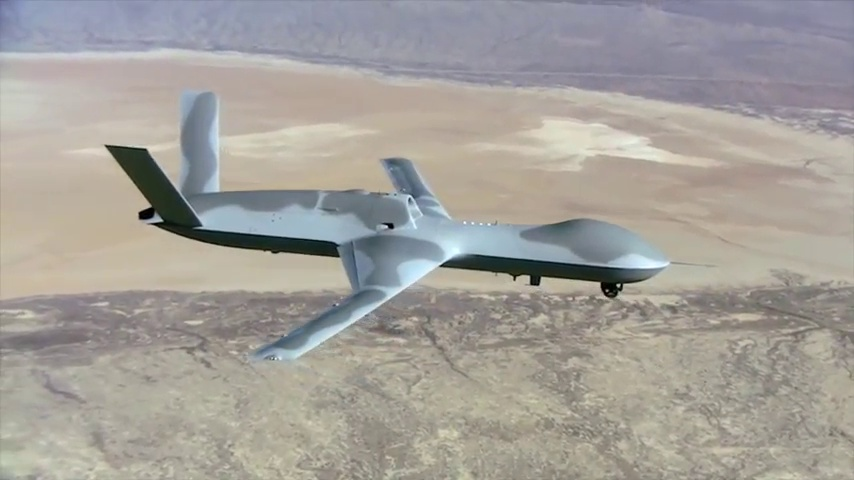military drone: (103, 90, 721, 361)
